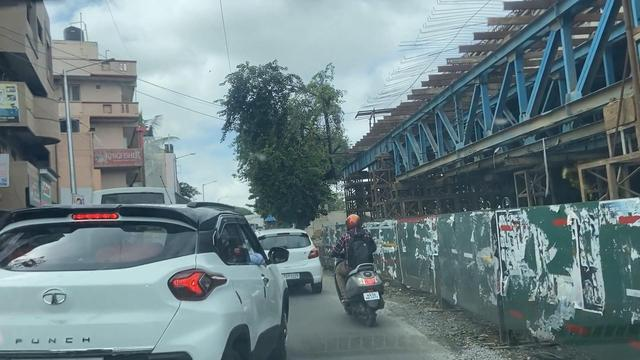LMV: (332, 219, 379, 327)
